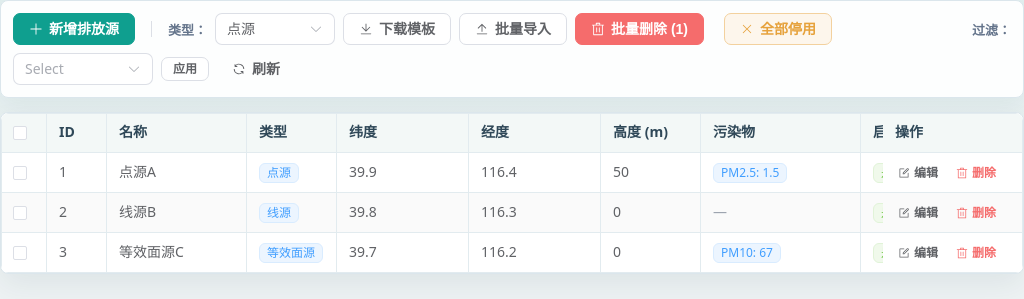
SourcesView › 刷新排放源列表后清空已选排放源_避免批量删除旧行
Click the button "刷新" at x=256, y=69, box [229, 59, 283, 79]
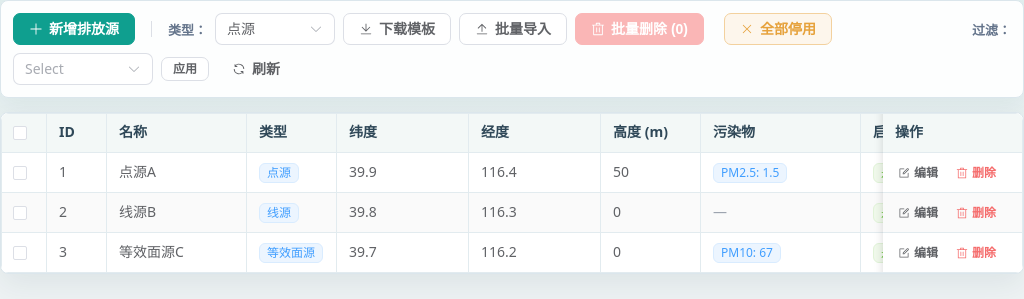
Check: the text "批量删除 (0)" is shown, box [611, 22, 688, 36]
